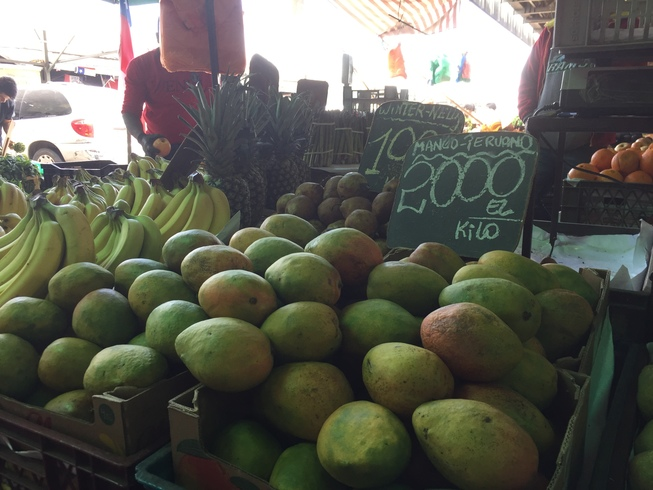precio: (403, 134, 537, 258), (367, 98, 461, 186)
